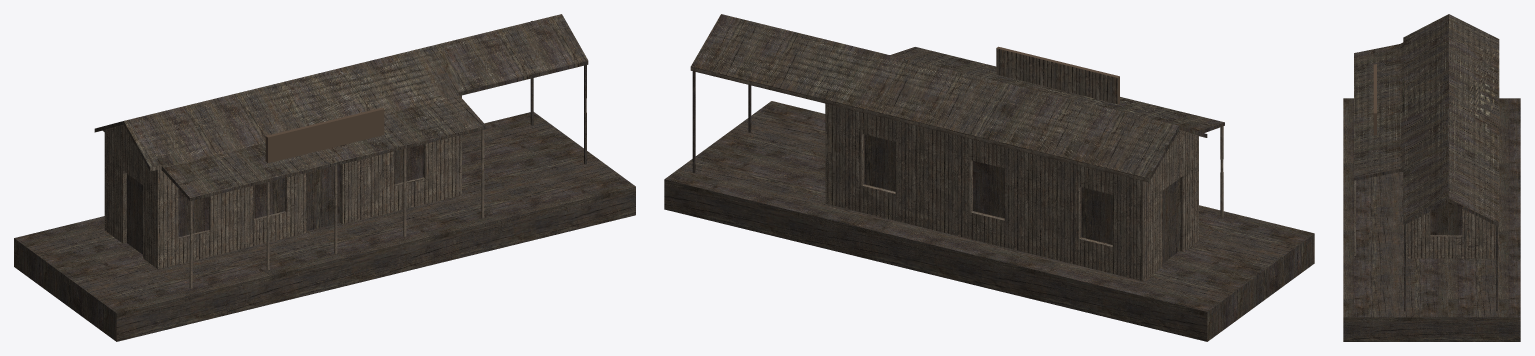
File: House 4.fbx
3 views of the same model, side by side, from view 1: azimuth 30°, elevation 25°; view 2: azimuth 150°, elevation 25°; view 3: azimuth 270°, elevation 25° (orthographic). The views are drawn at different scales.
Parts seen in each view (by area): view 1: Model; view 2: Model; view 3: Model.
Part boxes in pixels (bbox=[...]): Model: bbox=[14, 14, 635, 341]; Model: bbox=[664, 14, 1314, 341]; Model: bbox=[1343, 14, 1520, 341].
Bounding box in the file's own units: 116 × 34.06 × 39.69.
